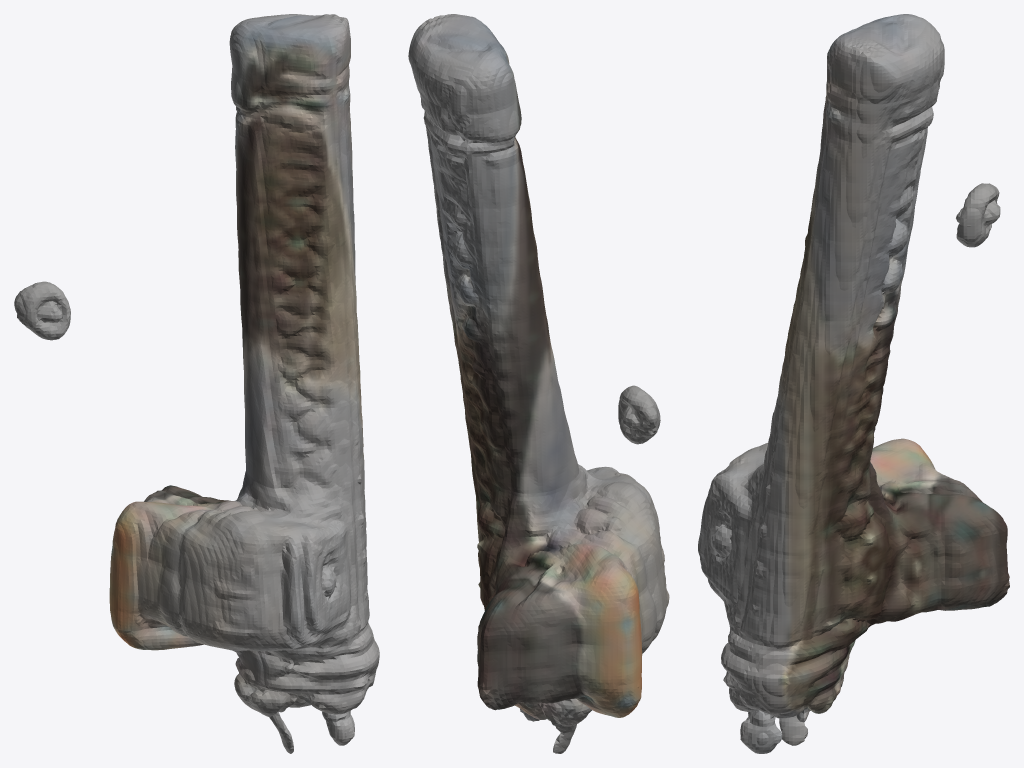
3 renders of one model, left to right at view 1: azimuth 30°, elevation 25°; view 2: azimuth 150°, elevation 25°; view 3: azimuth 270°, elevation 25°, orthographic. The views are drawn at different scales.
Visible parts, largest first — view 1: geometry_0; view 2: geometry_0; view 3: geometry_0.
Boxes of the visible parts, x1,y1,x2,y2 form: geometry_0: (14, 14, 379, 753); geometry_0: (408, 14, 669, 753); geometry_0: (698, 14, 1009, 753).
Size of the model in its own units: 0.4219 by 1 by 0.3815.
